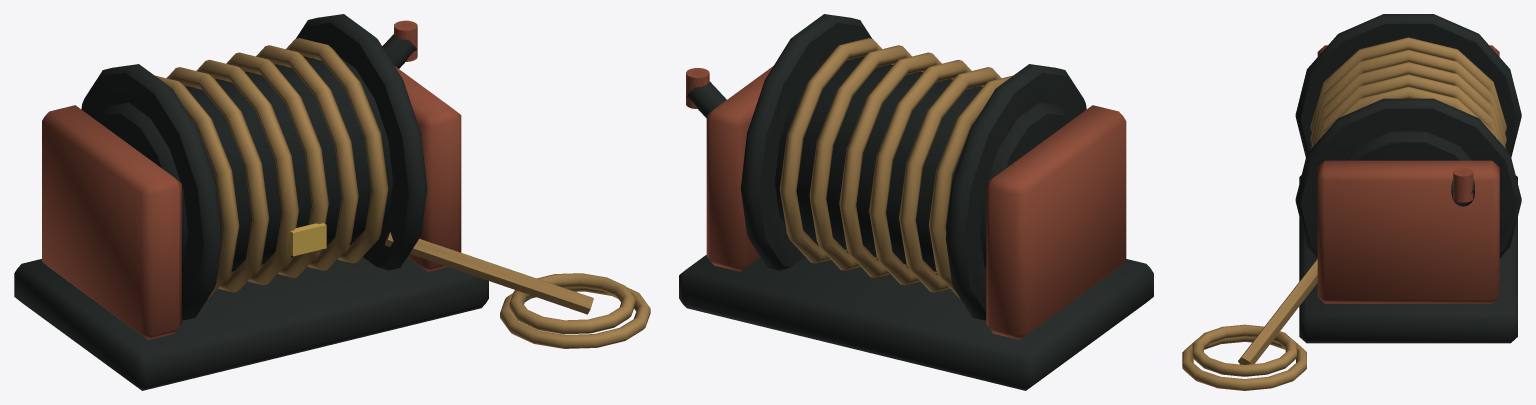
File: winch_drum_a.glb
The picture shows the model from 3 angles, left to right: view 1: azimuth 30°, elevation 25°; view 2: azimuth 150°, elevation 25°; view 3: azimuth 270°, elevation 25°; orthographic projection. The views are drawn at different scales.
Visible parts, largest first — view 1: Surface; view 2: Surface; view 3: Surface.
Boxes of the visible parts, x1,y1,x2,y2 form: Surface: (14, 14, 650, 390); Surface: (679, 14, 1153, 390); Surface: (1182, 14, 1521, 390).
Bounding box in the file's own units: 2.52 × 1.3 × 1.86.
